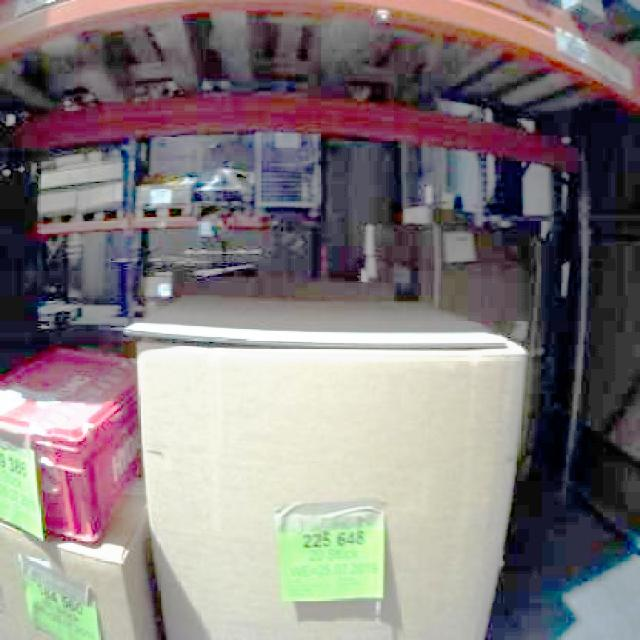pallet: (12, 92, 586, 525), (123, 295, 528, 638), (0, 345, 142, 545), (0, 474, 163, 638)
